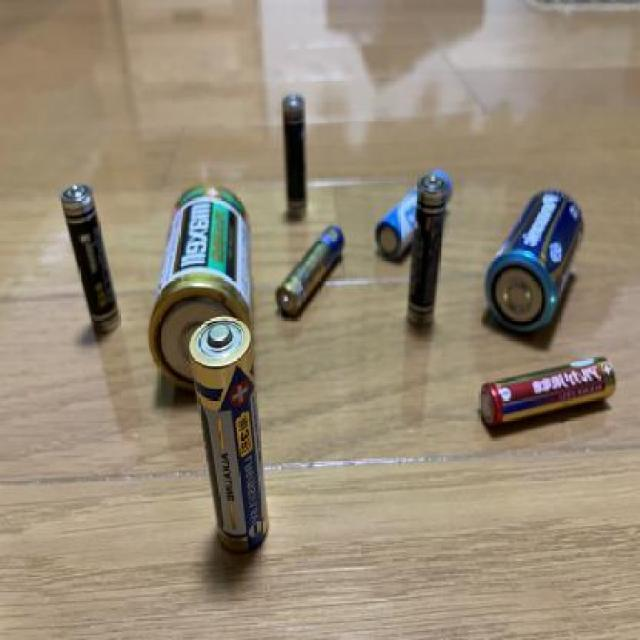hazardous waste: (186, 314, 282, 560), (150, 181, 256, 397), (483, 183, 585, 337), (476, 356, 618, 430), (60, 182, 123, 336), (402, 171, 449, 337), (374, 164, 451, 258), (275, 222, 348, 318), (277, 86, 314, 223)
